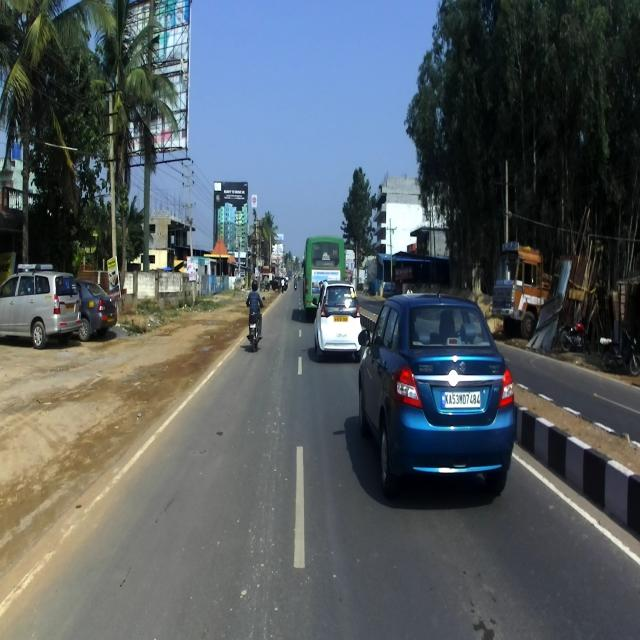car: (358, 288, 516, 498), (0, 263, 80, 350), (312, 280, 362, 366), (70, 278, 117, 342)
